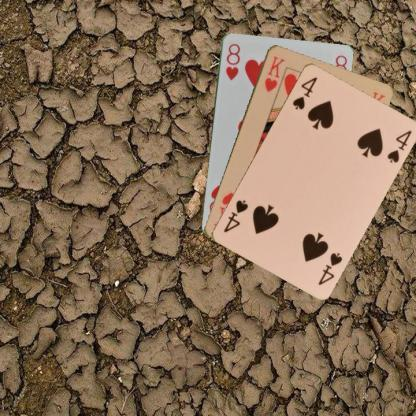4s: (315, 249, 344, 286), (289, 74, 318, 110)
8h: (222, 41, 240, 80)
Kh: (262, 53, 286, 93)
